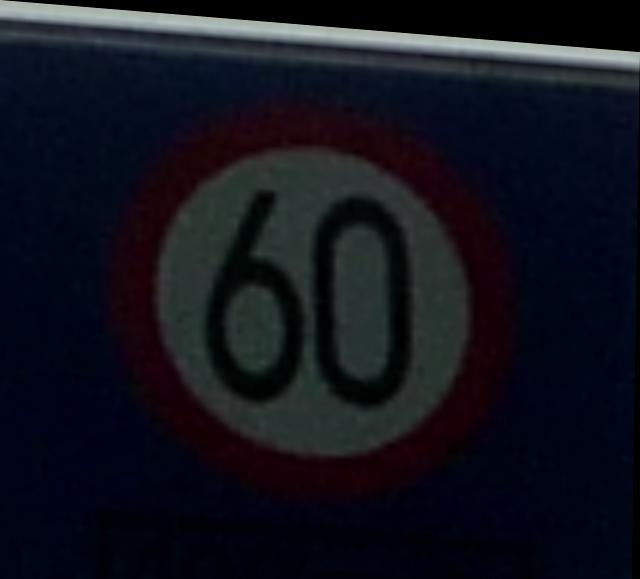limit60: (99, 76, 529, 512)
